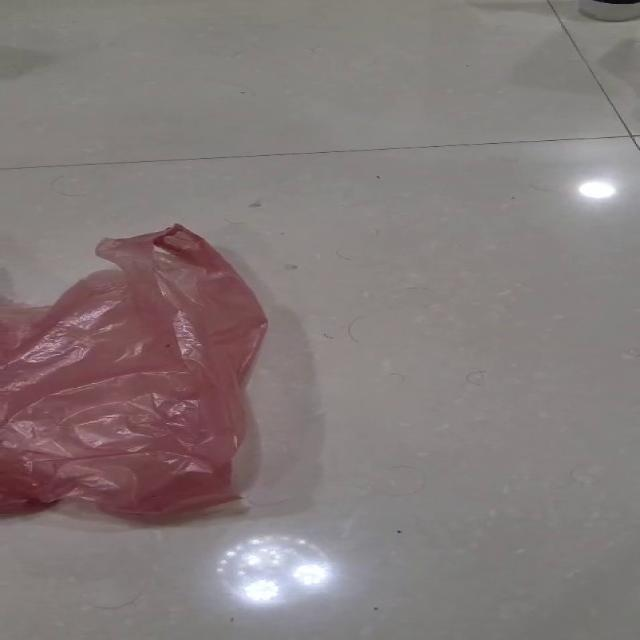plastic: (0, 222, 268, 519)
